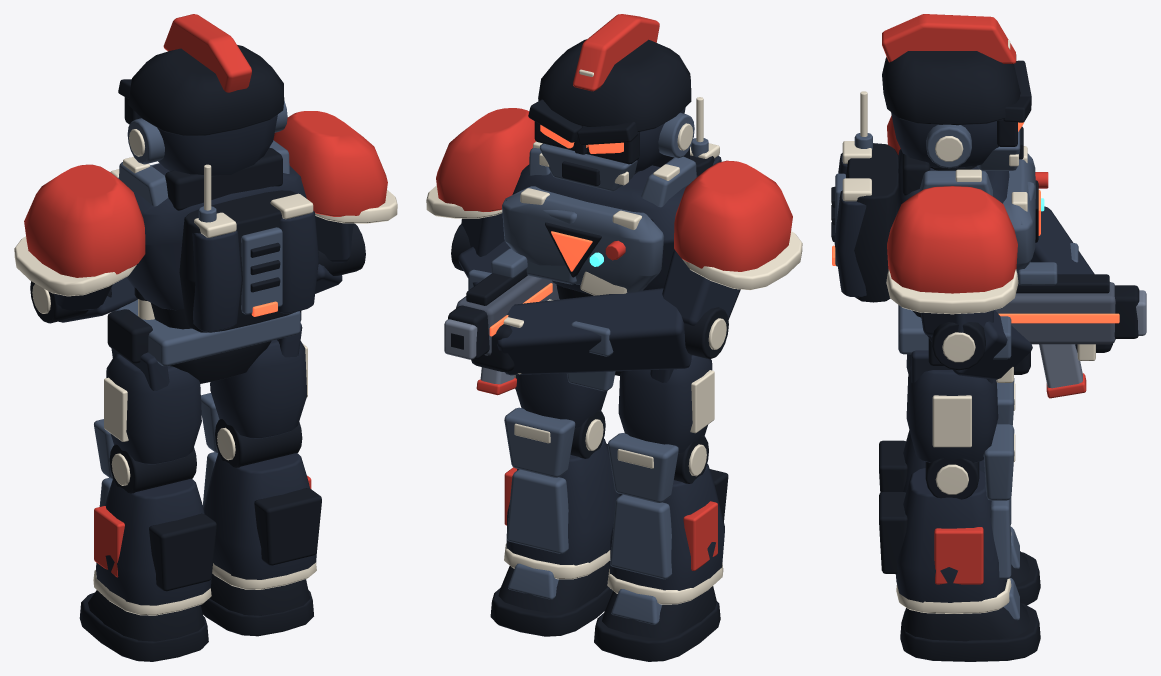
File: enemy.glb
The picture shows the model from 3 angles, left to right: view 1: azimuth 30°, elevation 25°; view 2: azimuth 150°, elevation 25°; view 3: azimuth 270°, elevation 25°; orthographic projection.
Parts seen in each view (by area): view 1: Torso, RightLeg, LeftLeg, AbCore, LeftBootHeel, RightBootHeel, LeftPad, Helmet, AntennaMount, RightPad, Head, Crest (+13 smaller); view 2: LeftArm, Helmet, LeftPad, LeftLeg, RightBootInstep, LeftBootInstep, RightLeg, Vest, RightPad, LeftBootHeel, RightBootHeel, Torso (+27 smaller); view 3: RightLeg, RightPad, Helmet, RightBootHeel, AbCore, Crest, RightAnkleCollar, EnemyGun, Torso, RightElbowDisc, RightBootInstep, RightArm (+17 smaller).
Boxes of the visible parts, <box> form: Torso: <box>111,163,318,390</box>; RightLeg: <box>203,339,316,579</box>; LeftLeg: <box>96,353,211,605</box>; AbCore: <box>107,147,301,383</box>; LeftBootHeel: <box>79,444,216,661</box>; RightBootHeel: <box>201,419,321,636</box>; LeftPad: <box>24,164,145,277</box>; Helmet: <box>118,45,284,135</box>; AntennaMount: <box>111,140,300,366</box>; RightPad: <box>273,111,387,216</box>; Head: <box>136,113,277,175</box>; Crest: <box>163,14,251,92</box>; LeftArm: <box>497,250,740,375</box>; Helmet: <box>528,39,691,145</box>; LeftPad: <box>674,160,792,271</box>; LeftLeg: <box>610,355,724,590</box>; RightBootInstep: <box>504,407,575,599</box>; LeftBootInstep: <box>607,433,678,624</box>; RightLeg: <box>506,373,619,565</box>; Vest: <box>502,186,663,292</box>; RightPad: <box>436,108,535,211</box>; LeftBootHeel: <box>594,435,728,661</box>; RightBootHeel: <box>490,410,620,636</box>; Torso: <box>512,156,721,382</box>; RightLeg: <box>895,366,1007,602</box>; RightPad: <box>887,186,1017,293</box>; Helmet: <box>882,51,1031,125</box>; RightBootHeel: <box>879,458,1040,661</box>; AbCore: <box>831,143,976,365</box>; Crest: <box>882,14,1016,63</box>; RightAnkleCollar: <box>896,395,1015,613</box>; EnemyGun: <box>995,282,1115,344</box>; Torso: <box>834,149,1009,383</box>; RightElbowDisc: <box>886,269,1018,382</box>; RightBootInstep: <box>983,424,1019,620</box>; RightArm: <box>920,310,1032,379</box>.
Size of the model in its own units: 1.24 by 2.01 by 0.9629.
